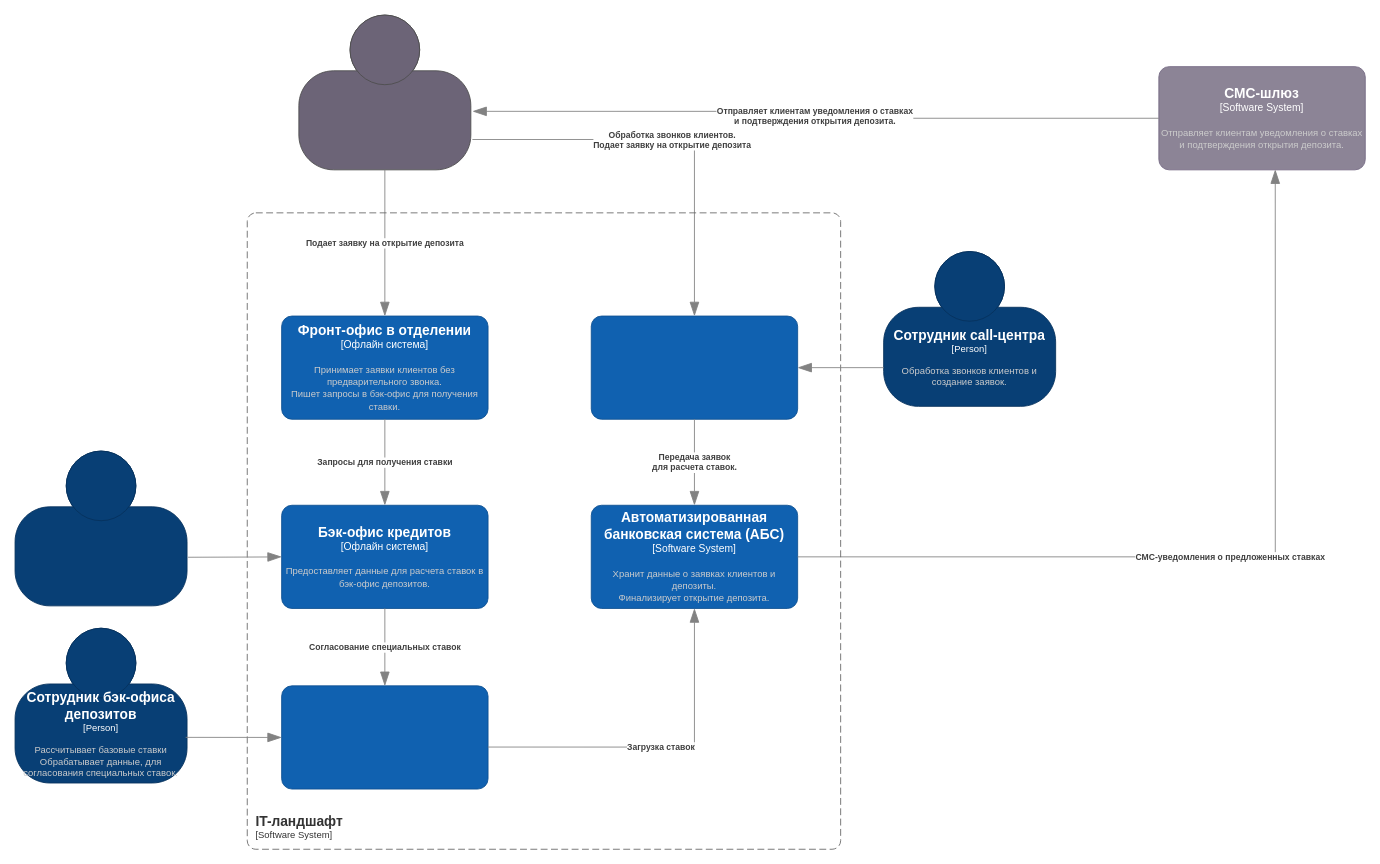
Some shapes in this 1380 by 864 pixel diagram are drawn without their labels. The shapes that lost their labels are listed below. From the top down, each one's centre as x and y in pixels, then its label:
(384,92): Клиенты [Person] Клиенты банка "Стандарт"
(694,367): Система call-центра [Software System] Передача заявок в АБС для расчета ставок
(100,528): Сотрудник бек-офиса кредитов [Person] Оценивает кредитные риски банка и клиентов
(384,737): Бэк-офис депозитов [Офлайн система] Подготавливает и отправляет данные в АБС
